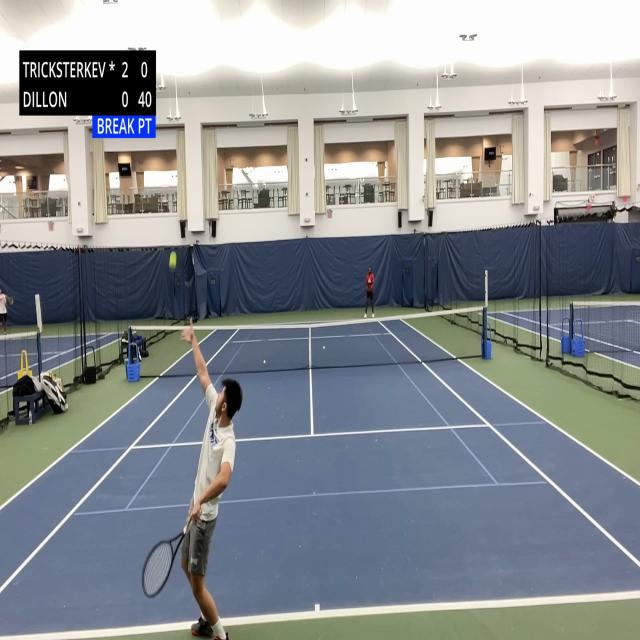ball: (169, 251, 177, 269), (263, 360, 266, 366), (323, 345, 325, 350)
